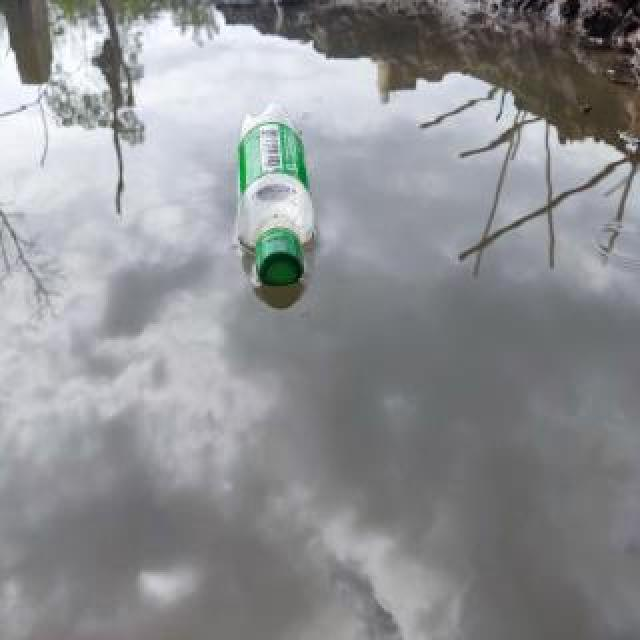bottle: (232, 97, 318, 291)
